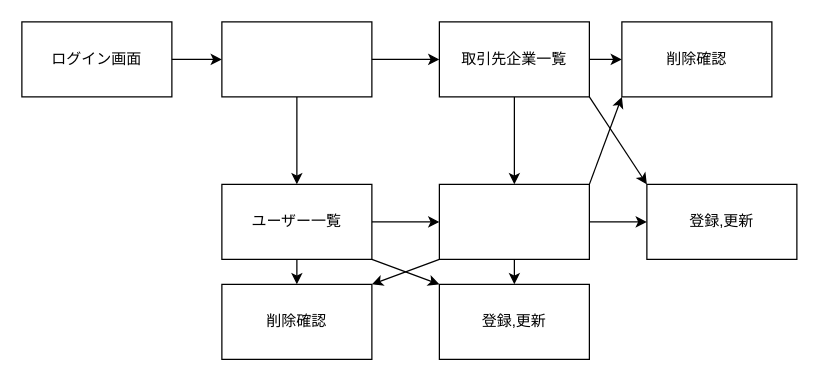
Some shapes in this 819 by 381 pixel diagram are drawn without their labels. The centre of each missing label's shape, as x and y in pixels:
メニュー画面: the point at 296,59
検索結果: the point at 513,221
